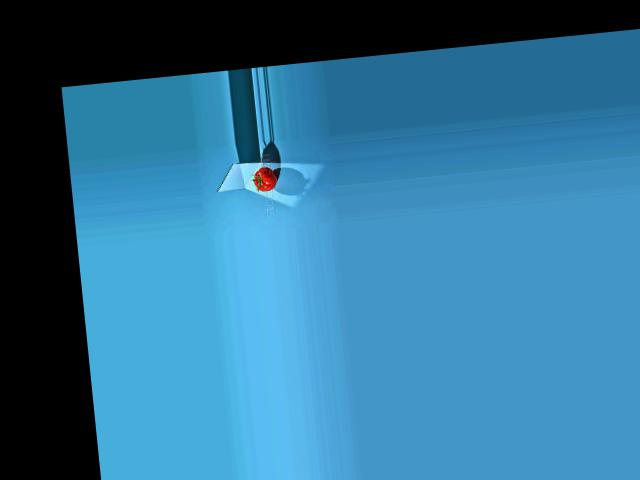tomato: (252, 165, 277, 192)
